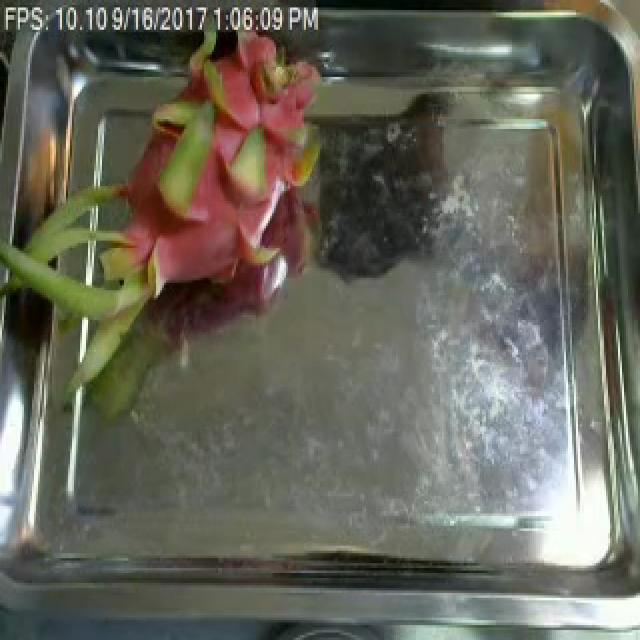fruit: (0, 2, 330, 394)
